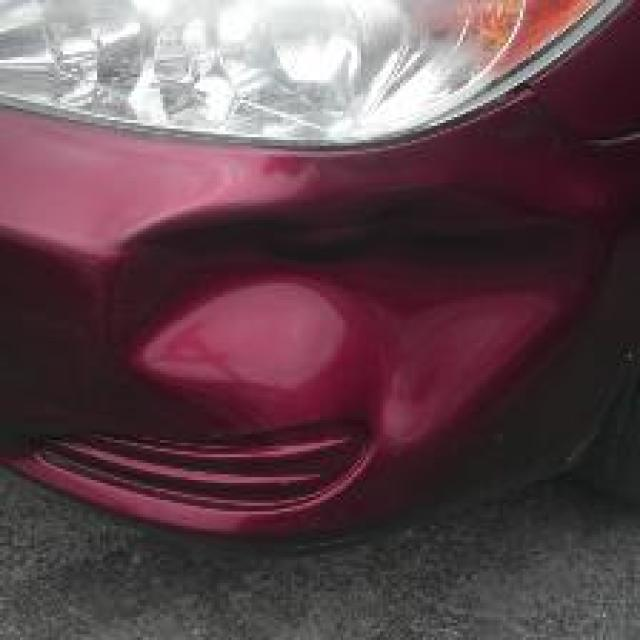bumper_dent_moderate: (126, 163, 600, 429)
